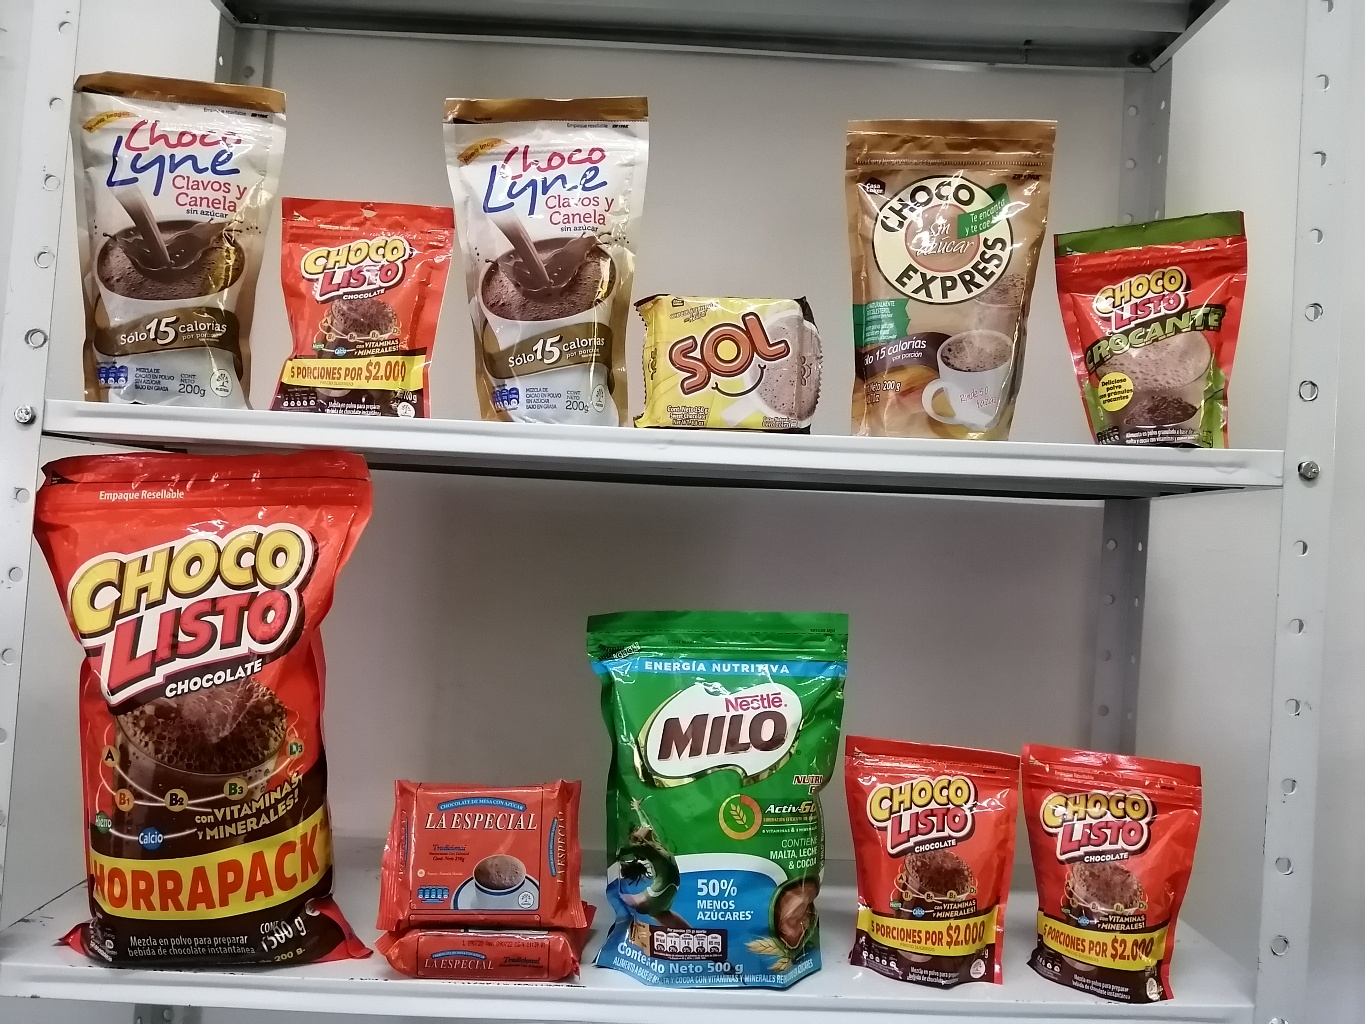COL0170102DYP10000: (1053, 221, 1253, 449)
COL0170103DYP1,500: (39, 455, 368, 966)
COL0170103DYP10000: (280, 194, 456, 414)
COL0170205DYP50000: (584, 610, 847, 991)
